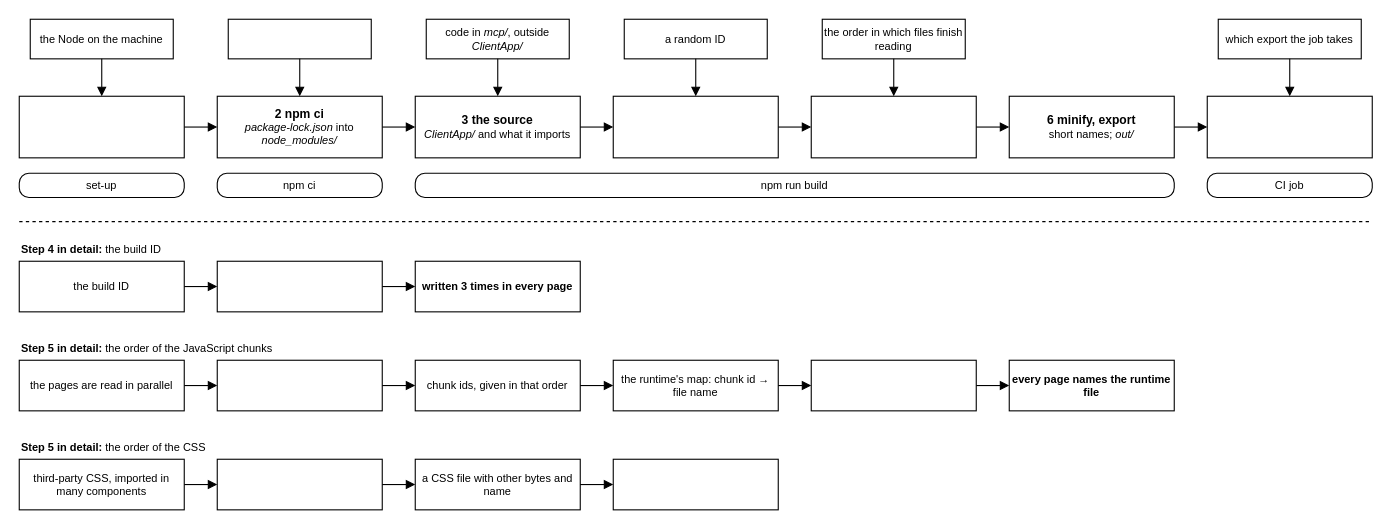
Some shapes in this 1393 by 529 pixel diagram are drawn without their labels. Here are the shapes that lost their labels. From the top down, the box of each, then its label:
(227, 18, 371, 59): the registry, for entries without a hash
(18, 95, 184, 158): 1 Node and npm the version in .nvmrc
(612, 95, 778, 158): 4 next build the build ID
(810, 95, 976, 158): 5 webpack pages into chunks of JavaScript and CSS
(1206, 95, 1372, 158): 7 into the release out/ into wwwroot/
(216, 260, 382, 312): the folder _next/static/<ID>/
(216, 359, 382, 411): entries, modules and links, in the order they finish
(810, 359, 976, 411): the runtime file, named by its own hash
(216, 458, 382, 510): shared CSS files, filled in module order
(612, 458, 778, 510): every page that uses it names it
